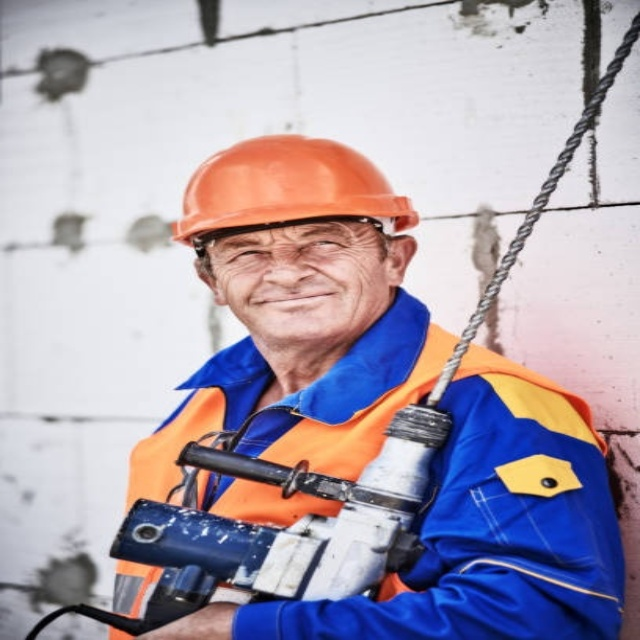Sin_gafas: (216, 225, 359, 269)
Sin_mascara: (251, 285, 353, 335)
